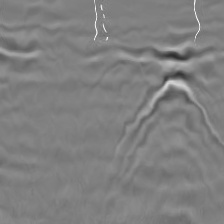Utility: (121, 64, 224, 158)
